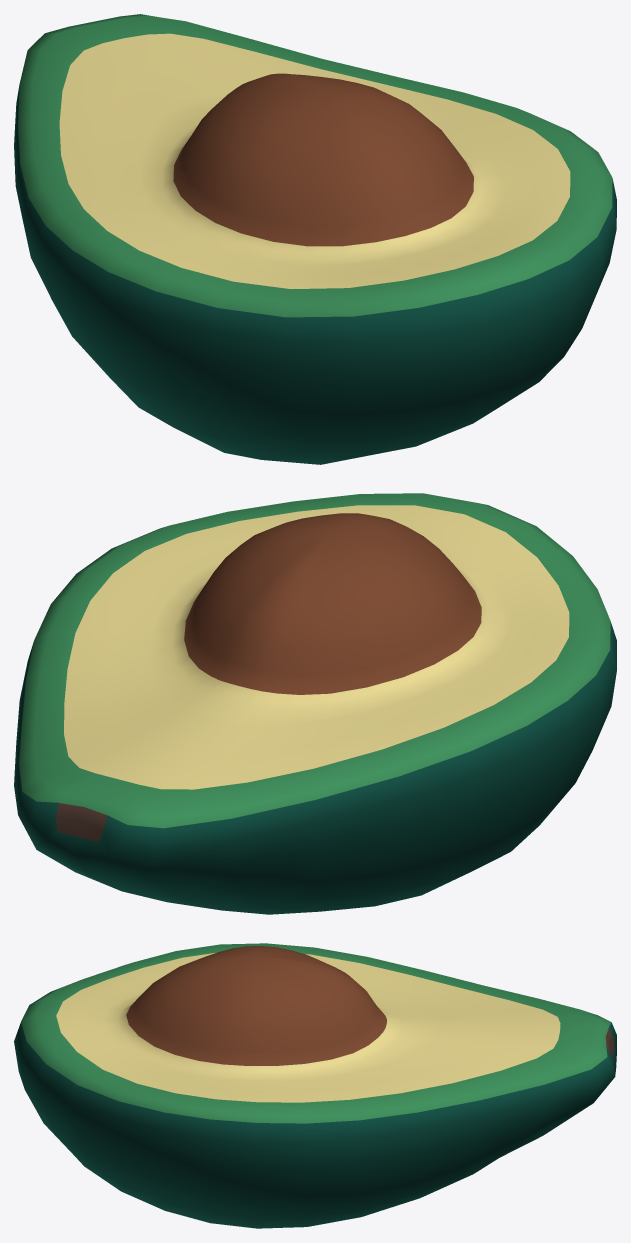
Rendered from Avocado_02.dae.
The picture shows the model from 3 angles, top to bottom: view 1: azimuth 30°, elevation 25°; view 2: azimuth 150°, elevation 25°; view 3: azimuth 270°, elevation 25°; orthographic projection. The views are drawn at different scales.
Visible parts, largest first — view 1: Avocado_02_LOD0; view 2: Avocado_02_LOD0; view 3: Avocado_02_LOD0.
Part boxes in pixels (x1=…): Avocado_02_LOD0: x1=14, y1=14, x2=616, y2=464; Avocado_02_LOD0: x1=14, y1=493, x2=616, y2=914; Avocado_02_LOD0: x1=14, y1=943, x2=616, y2=1228.
Size of what is drawn, in the model's own units: 3.36 by 4.68 by 2.16.
